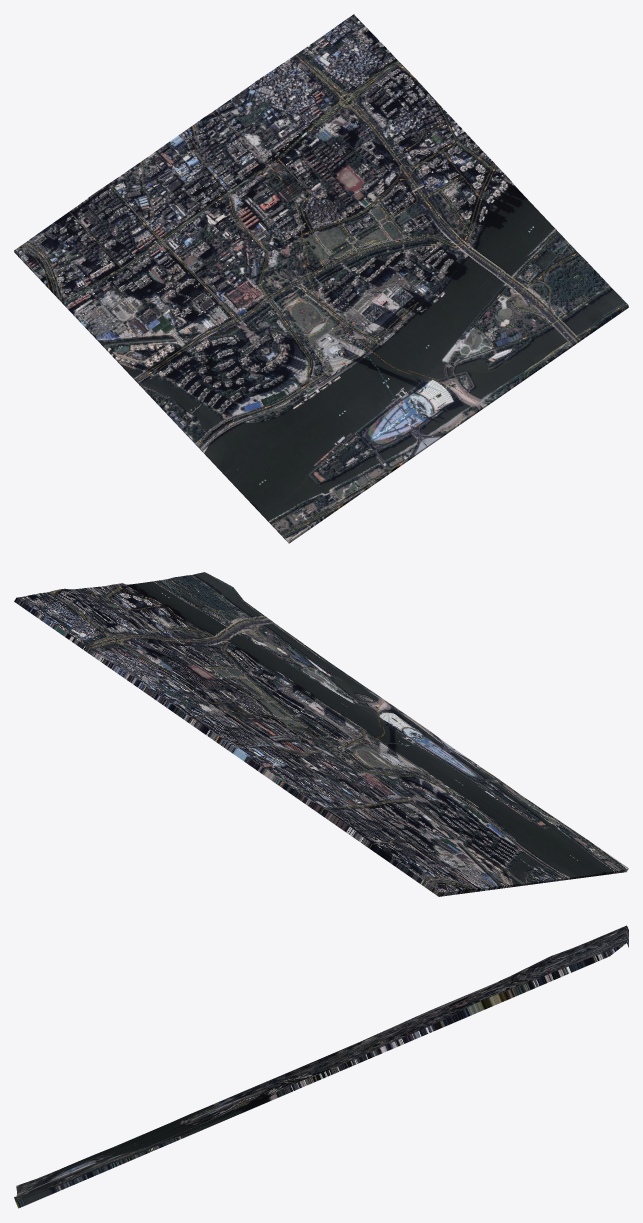
3 views of the same model, one above another, from view 1: azimuth 30°, elevation 25°; view 2: azimuth 150°, elevation 25°; view 3: azimuth 270°, elevation 25° (orthographic). The views are drawn at different scales.
Visible parts, largest first — view 1: 2_3_5; view 2: 2_3_5; view 3: 2_3_5.
Part boxes in pixels (x1,y1,x2,y2): 2_3_5: (14,14,628,543); 2_3_5: (14,572,628,896); 2_3_5: (14,925,628,1208).
Size of the model in its own units: 2452 by 1785 by 2254.
Materials: 1 (1 with a texture image).
